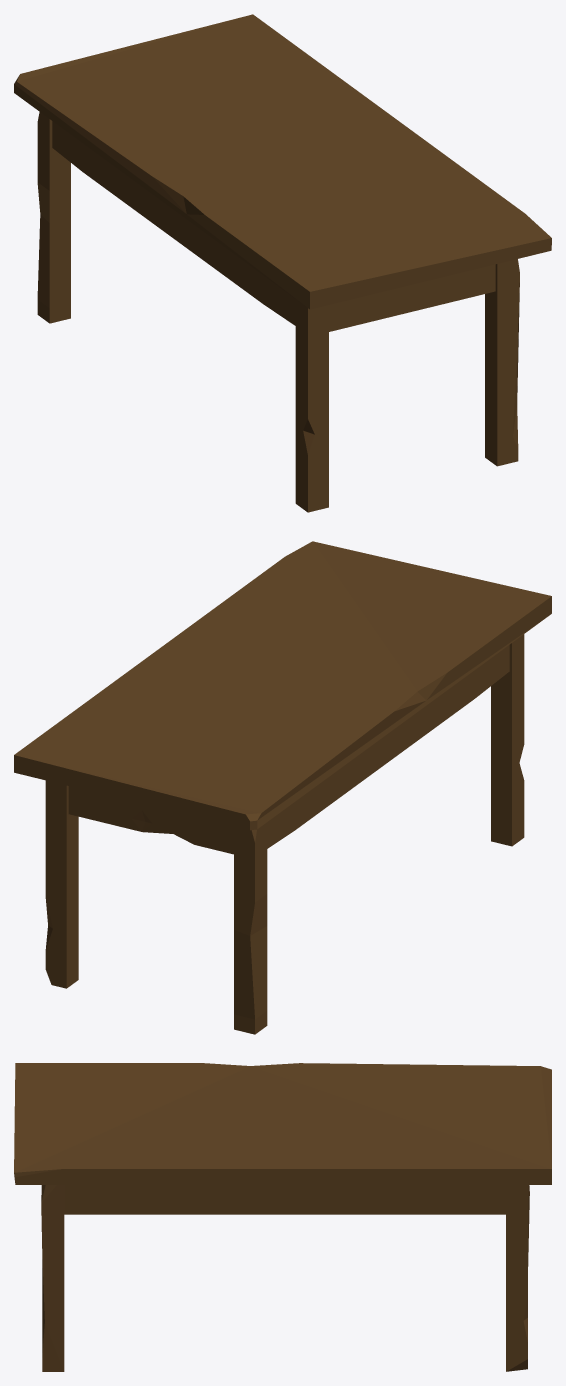
The model's file is table.fbx.
3 views of the same model, one above another, from view 1: azimuth 30°, elevation 25°; view 2: azimuth 150°, elevation 25°; view 3: azimuth 270°, elevation 25° (orthographic). The views are drawn at different scales.
Parts seen in each view (by area): view 1: table; view 2: table; view 3: table.
Part boxes in pixels (bbox=[...]): table: bbox=[14, 14, 551, 512]; table: bbox=[14, 541, 551, 1034]; table: bbox=[14, 1063, 551, 1371].
Bounding box in the file's own units: 136 × 126 × 292.
